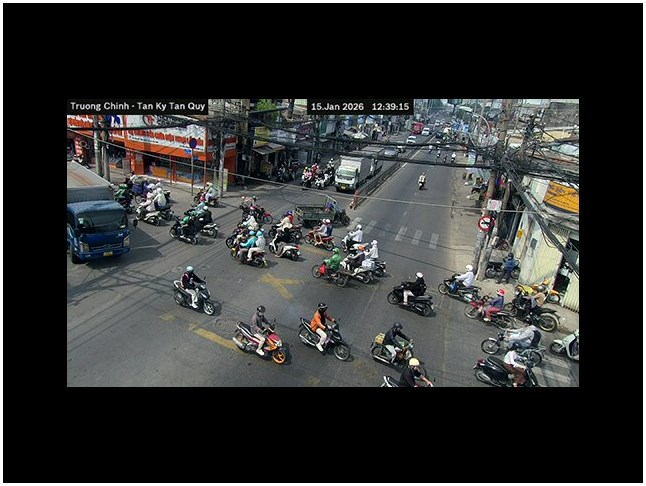car: (67, 199, 133, 263), (335, 159, 360, 193)
motorbike: (314, 248, 388, 288), (473, 345, 539, 387), (298, 311, 352, 360), (233, 317, 287, 362), (173, 274, 222, 316)
